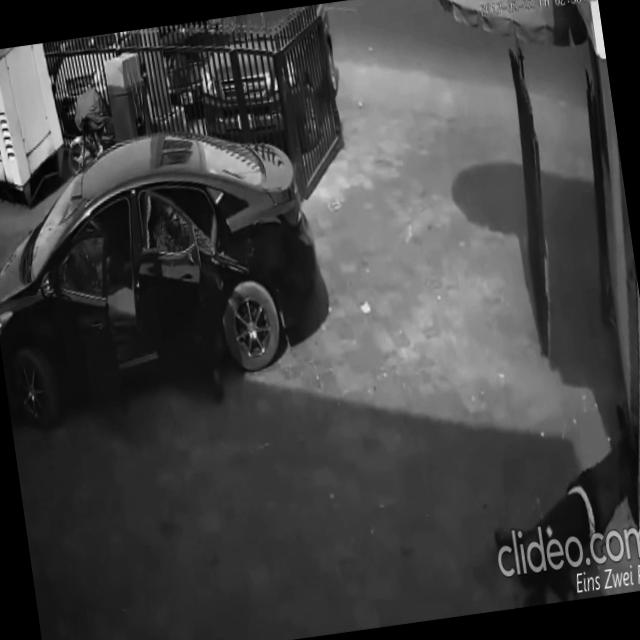gun: (182, 232, 256, 299)
person: (475, 398, 640, 609)
person with a gun: (147, 185, 271, 411)
